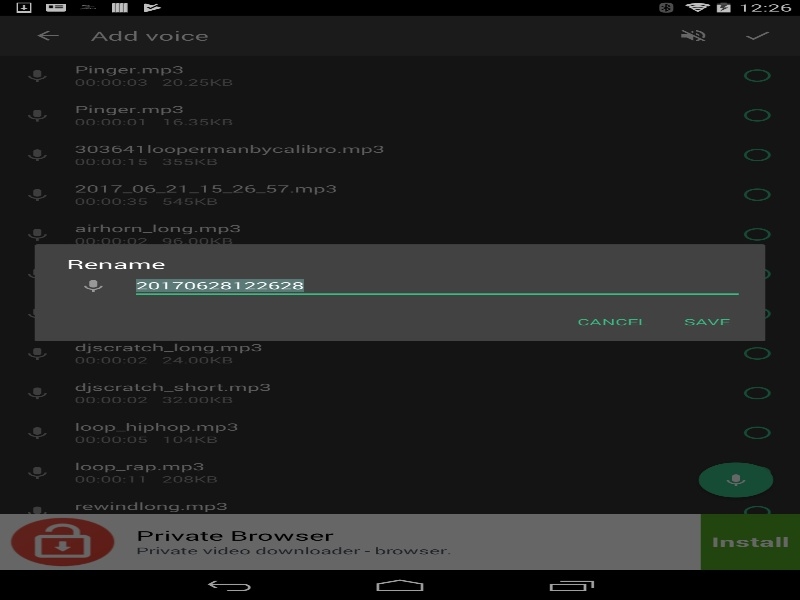Button: (561, 305, 664, 338), (664, 305, 749, 338)
Input: (130, 272, 744, 299)
